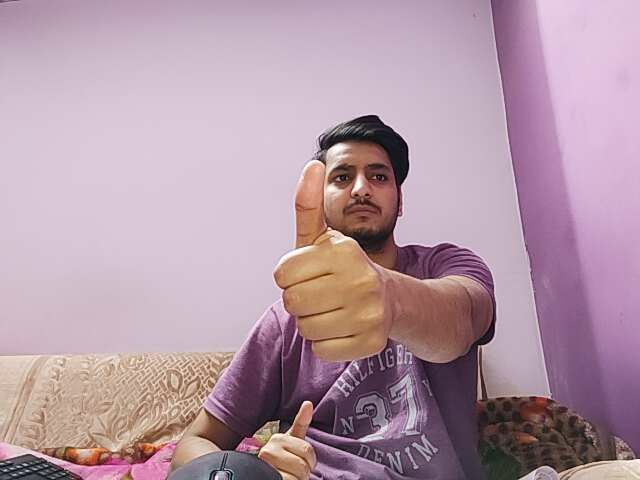ThumbsUp: (268, 158, 392, 384)
